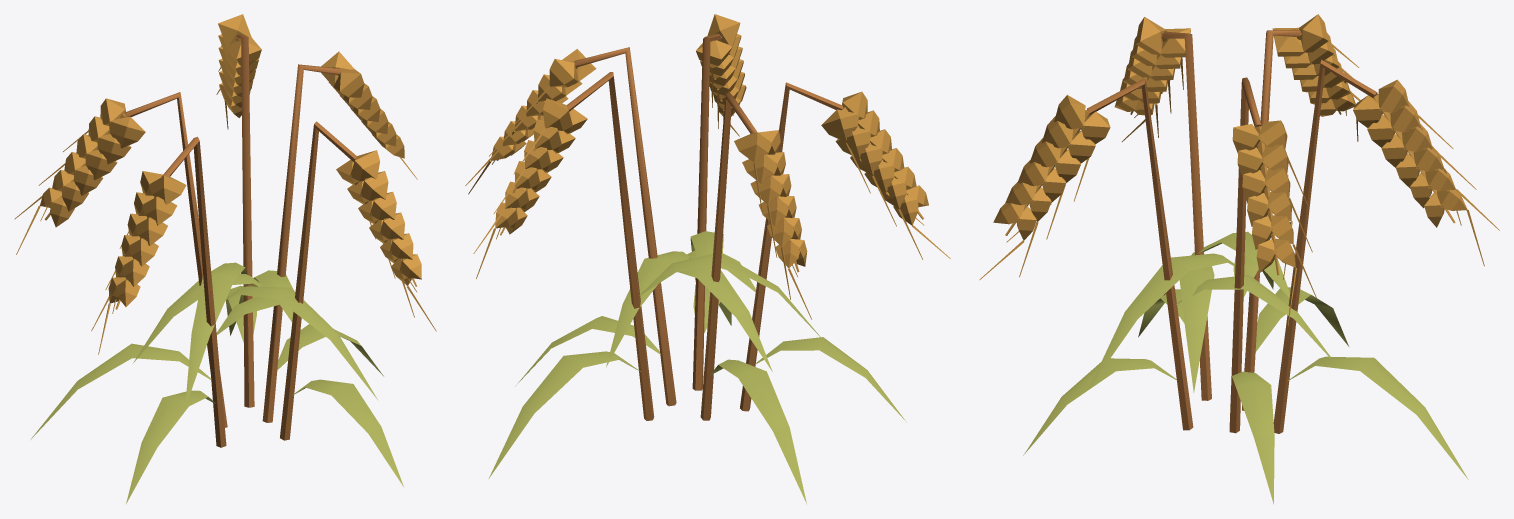
File: crop_barley_overripe.glb
3 renders of one model, left to right at view 1: azimuth 30°, elevation 25°; view 2: azimuth 150°, elevation 25°; view 3: azimuth 270°, elevation 25°, orthographic. The views are drawn at different scales.
Parts seen in each view (by area): view 1: barley_head_0_awn_0, barley_stalk_0, barley_leaf_0_0; view 2: barley_head_0_awn_0, barley_stalk_0, barley_leaf_0_0; view 3: barley_head_0_awn_0, barley_leaf_0_0, barley_stalk_0.
Part boxes in pixels (x1,y1,x2,y2): barley_head_0_awn_0: (14, 14, 436, 354); barley_stalk_0: (124, 33, 356, 447); barley_leaf_0_0: (30, 262, 403, 503); barley_head_0_awn_0: (465, 14, 950, 319); barley_stalk_0: (566, 33, 843, 420); barley_leaf_0_0: (488, 231, 906, 503); barley_head_0_awn_0: (979, 14, 1499, 326); barley_leaf_0_0: (1023, 231, 1468, 504); barley_stalk_0: (1087, 29, 1377, 433).
Bounding box in the file's own units: 1.03 × 0.9054 × 1.08.
